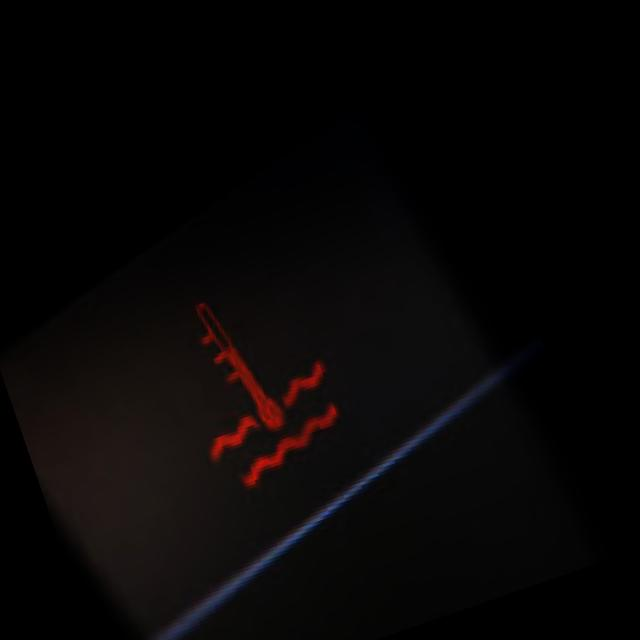kontrolka: (112, 220, 374, 526)
